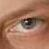eye: (22, 19, 36, 29)
